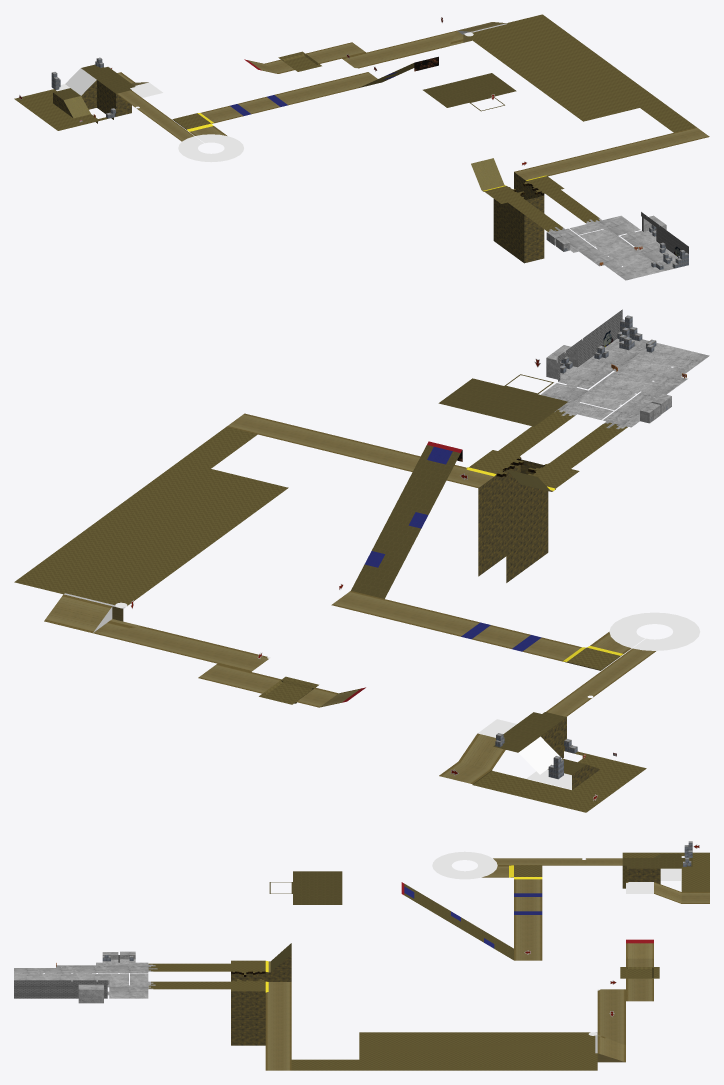
Rendered from map_ugv109.obj.
3 renders of one model, top to bottom at view 1: azimuth 30°, elevation 25°; view 2: azimuth 150°, elevation 25°; view 3: azimuth 270°, elevation 25°, orthographic. The views are drawn at different scales.
Parts seen in each view (by area): view 1: MAP_v3-SKP--Road_floorchecker, MAP_v3-SKP--Road_sandpath, MAP_v3-SKP--Wall_concretefac, MAP_v3-SKP--Wall_sandstonev2, MAP_v3-SKP--Road_floorcheckerbr, MAP_v3-SKP--Default_Material, MAP_v3-SKP--Road_sand, MAP_v3-SKP--Wall_concretebrick, MAP_v3-GRP-8029-Road_floorcheckerbr; view 2: MAP_v3-SKP--Road_floorchecker, MAP_v3-SKP--Road_sandpath, MAP_v3-SKP--Road_floorcheckerbr, MAP_v3-SKP--Wall_concretefac, MAP_v3-SKP--Wall_sandstonev2, MAP_v3-SKP--Default_Material, MAP_v3-SKP--Boostpad, MAP_v3-SKP--Wall_concretebrick, MAP_v3-GRP-8029-Road_floorcheckerbr; view 3: MAP_v3-SKP--Road_floorchecker, MAP_v3-SKP--Road_sandpath, MAP_v3-SKP--Wall_concretefac, MAP_v3-SKP--Road_floorcheckerbr, MAP_v3-SKP--Wall_sandstonev2, MAP_v3-SKP--Default_Material, MAP_v3-SKP--Wall_concretebrick, MAP_v3-GRP-8029-Road_floorcheckerbr, MAP_v3-SKP--Boostpad.
Part boxes in pixels (left/top/right/bottom): MAP_v3-SKP--Road_floorchecker: left=14, top=14, right=696, bottom=231; MAP_v3-SKP--Road_sandpath: left=116, top=22, right=709, bottom=190; MAP_v3-SKP--Wall_concretefac: left=546, top=212, right=677, bottom=280; MAP_v3-SKP--Wall_sandstonev2: left=53, top=80, right=544, bottom=263; MAP_v3-SKP--Road_floorcheckerbr: left=53, top=63, right=516, bottom=111; MAP_v3-SKP--Default_Material: left=56, top=30, right=659, bottom=226; MAP_v3-SKP--Road_sand: left=63, top=96, right=503, bottom=189; MAP_v3-SKP--Wall_concretebrick: left=561, top=212, right=688, bottom=253; MAP_v3-GRP-8029-Road_floorcheckerbr: left=431, top=79, right=507, bottom=101; MAP_v3-SKP--Road_floorchecker: left=14, top=410, right=646, bottom=812; MAP_v3-SKP--Road_sandpath: left=44, top=413, right=655, bottom=784; MAP_v3-SKP--Road_floorcheckerbr: left=351, top=374, right=586, bottom=774; MAP_v3-SKP--Wall_concretefac: left=540, top=338, right=709, bottom=429; MAP_v3-SKP--Wall_sandstonev2: left=478, top=459, right=599, bottom=789; MAP_v3-SKP--Default_Material: left=93, top=338, right=700, bottom=789; MAP_v3-SKP--Boostpad: left=364, top=446, right=541, bottom=651; MAP_v3-SKP--Wall_concretebrick: left=558, top=309, right=651, bottom=402; MAP_v3-GRP-8029-Road_floorcheckerbr: left=450, top=387, right=555, bottom=417; MAP_v3-SKP--Road_floorchecker: left=148, top=852, right=709, bottom=1070; MAP_v3-SKP--Road_sandpath: left=265, top=858, right=709, bottom=1070; MAP_v3-SKP--Wall_concretefac: left=14, top=951, right=157, bottom=1003; MAP_v3-SKP--Road_floorcheckerbr: left=269, top=854, right=692, bottom=960; MAP_v3-SKP--Wall_sandstonev2: left=231, top=868, right=660, bottom=1045; MAP_v3-SKP--Default_Material: left=71, top=851, right=684, bottom=1035; MAP_v3-SKP--Wall_concretebrick: left=14, top=955, right=119, bottom=998; MAP_v3-GRP-8029-Road_floorcheckerbr: left=310, top=871, right=324, bottom=904; MAP_v3-SKP--Boostpad: left=404, top=886, right=542, bottom=948.
Bounding box in the file's own units: 47701 × 15236 × 61398.
